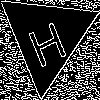H: (21, 12, 70, 69)
